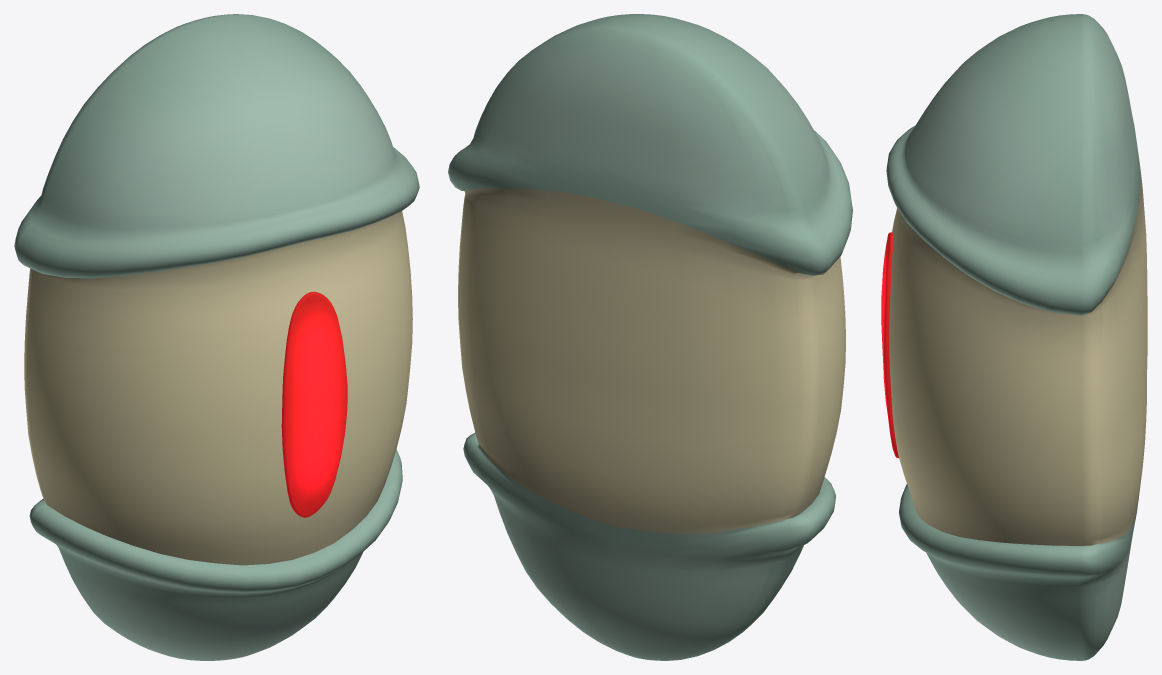
3 views of the same model, side by side, from view 1: azimuth 30°, elevation 25°; view 2: azimuth 150°, elevation 25°; view 3: azimuth 270°, elevation 25° (orthographic).
Parts seen in each view (by area): view 1: eye_3.1; view 2: eye_3.1; view 3: eye_3.1.
Boxes of the visible parts, x1=… form: eye_3.1: x1=14, y1=14, x2=419, y2=660; eye_3.1: x1=448, y1=14, x2=852, y2=660; eye_3.1: x1=881, y1=14, x2=1147, y2=660.
Bounding box in the file's own units: 0.0112 × 0.0177 × 0.00688.
1 material, 1 textured.
